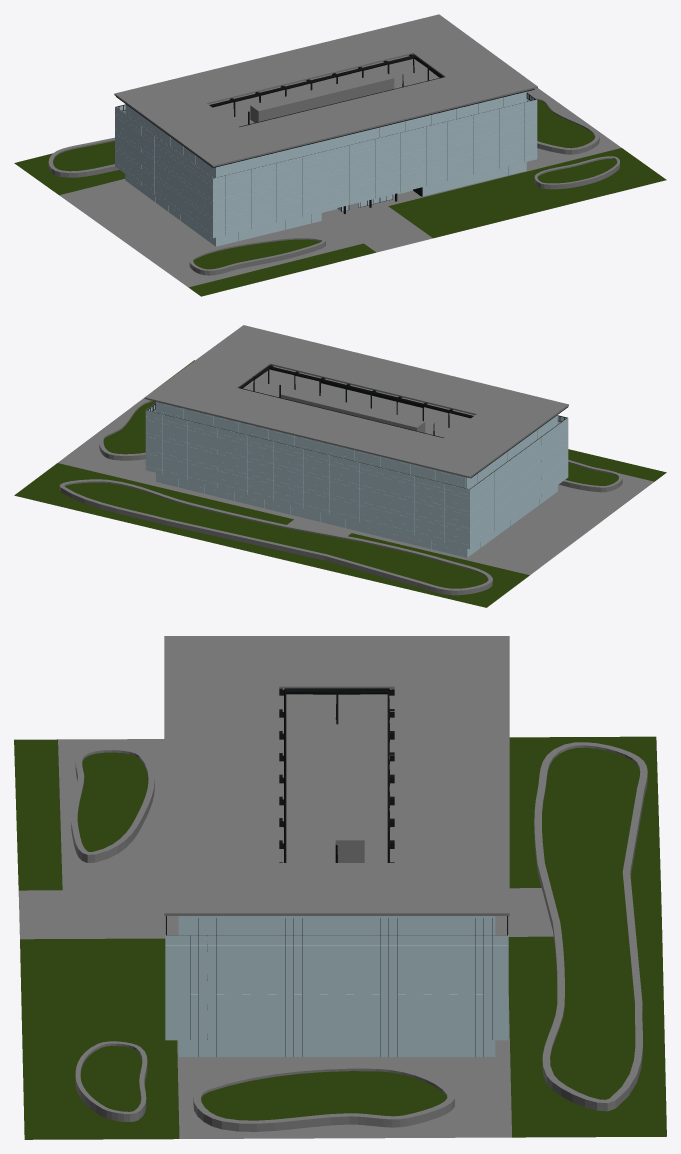
Rendered from edificio.fbx.
3 views of the same model, one above another, from view 1: azimuth 30°, elevation 25°; view 2: azimuth 150°, elevation 25°; view 3: azimuth 270°, elevation 25° (orthographic). The views are drawn at different scales.
Parts seen in each view (by area): view 1: Plane006; view 2: Plane006; view 3: Plane006.
Part boxes in pixels (x1,y1,x2,y2): Plane006: [14, 14, 666, 296]; Plane006: [14, 325, 666, 607]; Plane006: [14, 636, 666, 1139].
Bounding box in the file's own units: 95.76 × 16.65 × 65.54.
